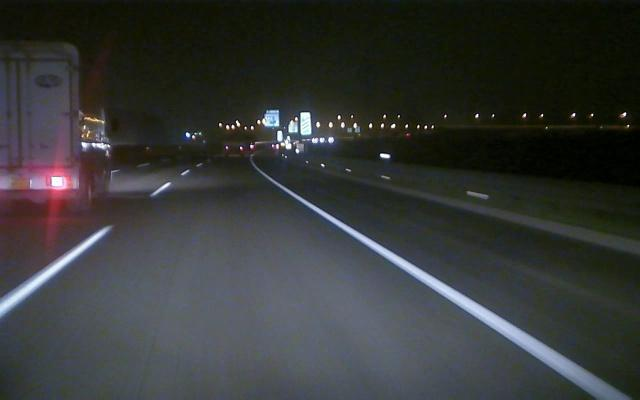lane: (261, 172, 628, 396), (3, 173, 186, 316)
